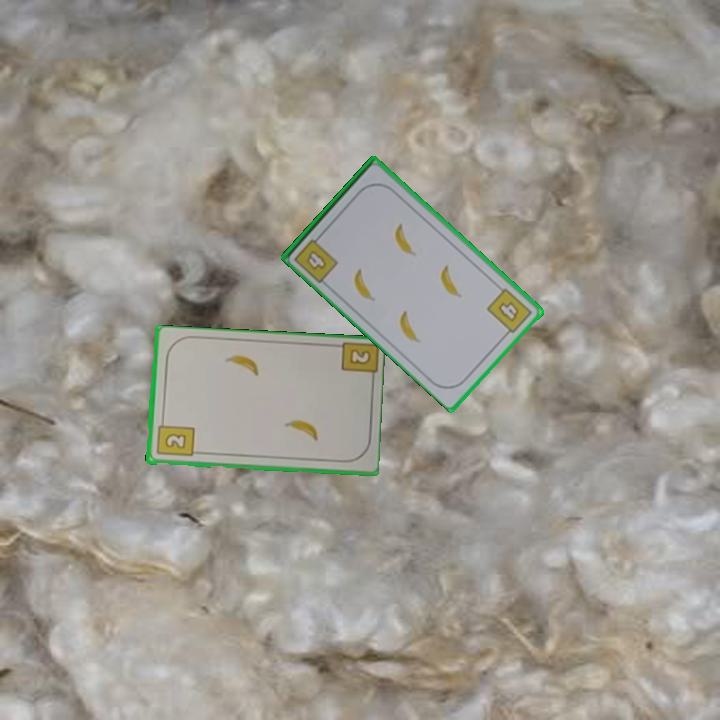2b: (153, 416, 196, 459), (346, 346, 374, 368)
4b: (483, 284, 535, 340), (291, 230, 339, 286)
